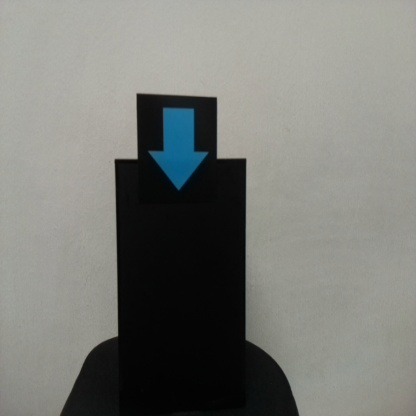id_2: (137, 94, 217, 206)
